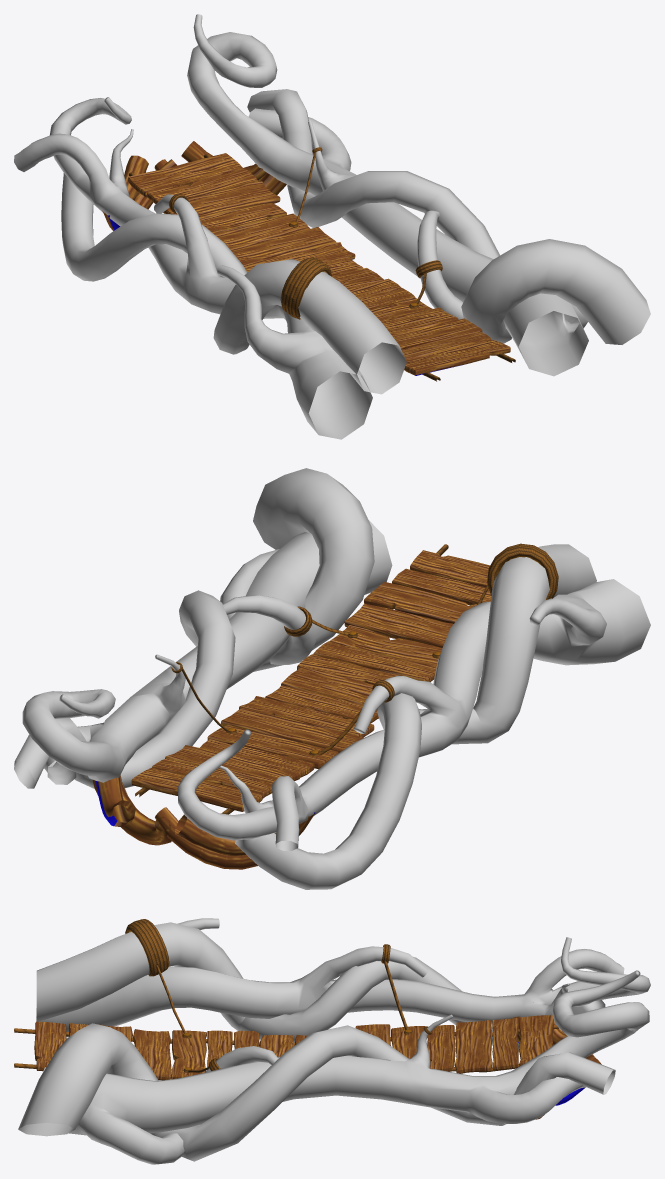
The model's file is Pont racine.fbx.
The picture shows the model from 3 angles, top to bottom: view 1: azimuth 30°, elevation 25°; view 2: azimuth 150°, elevation 25°; view 3: azimuth 270°, elevation 25°; orthographic projection. The views are drawn at different scales.
Visible parts, largest first — view 1: pont2_pCylinder214; view 2: pont2_pCylinder214; view 3: pont2_pCylinder214.
Boxes of the visible parts, <box> form: pont2_pCylinder214: <box>14,14,650,439</box>; pont2_pCylinder214: <box>14,468,650,889</box>; pont2_pCylinder214: <box>14,918,650,1164</box>.
Size of the model in its own units: 1158 by 538 by 1914.
